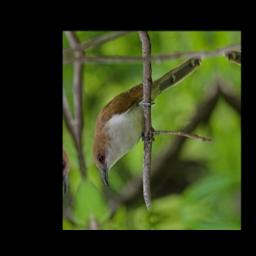Cuckoo: (78, 55, 223, 190)
